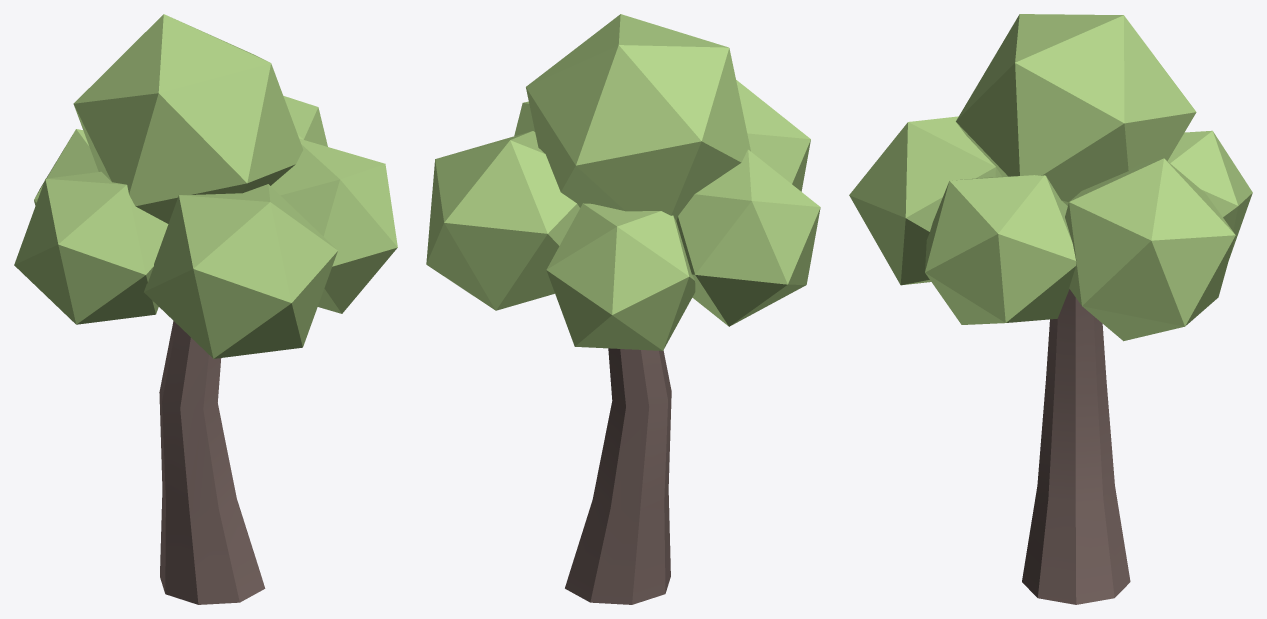
Rendered from Tree.fbx.
The picture shows the model from 3 angles, left to right: view 1: azimuth 30°, elevation 25°; view 2: azimuth 150°, elevation 25°; view 3: azimuth 270°, elevation 25°; orthographic projection.
Visible parts, largest first — view 1: leaves7, treebranch; view 2: leaves7, treebranch; view 3: leaves7, treebranch.
Part boxes in pixels (<box>): leaves7: <box>14,14,397,358</box>; treebranch: <box>159,321,265,604</box>; leaves7: <box>426,14,820,350</box>; treebranch: <box>565,348,671,604</box>; leaves7: <box>849,14,1252,341</box>; treebranch: <box>1022,289,1130,604</box>.
Bounding box in the file's own units: 0.0449 × 0.0731 × 0.0482.
